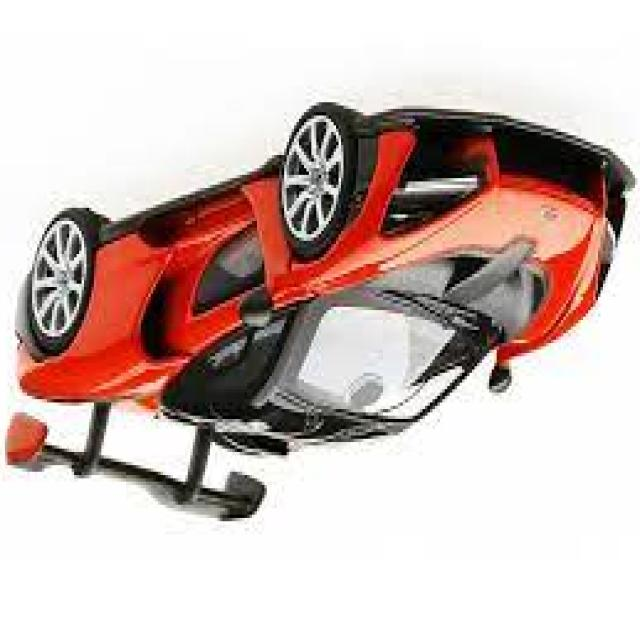Car: (5, 106, 630, 524)
